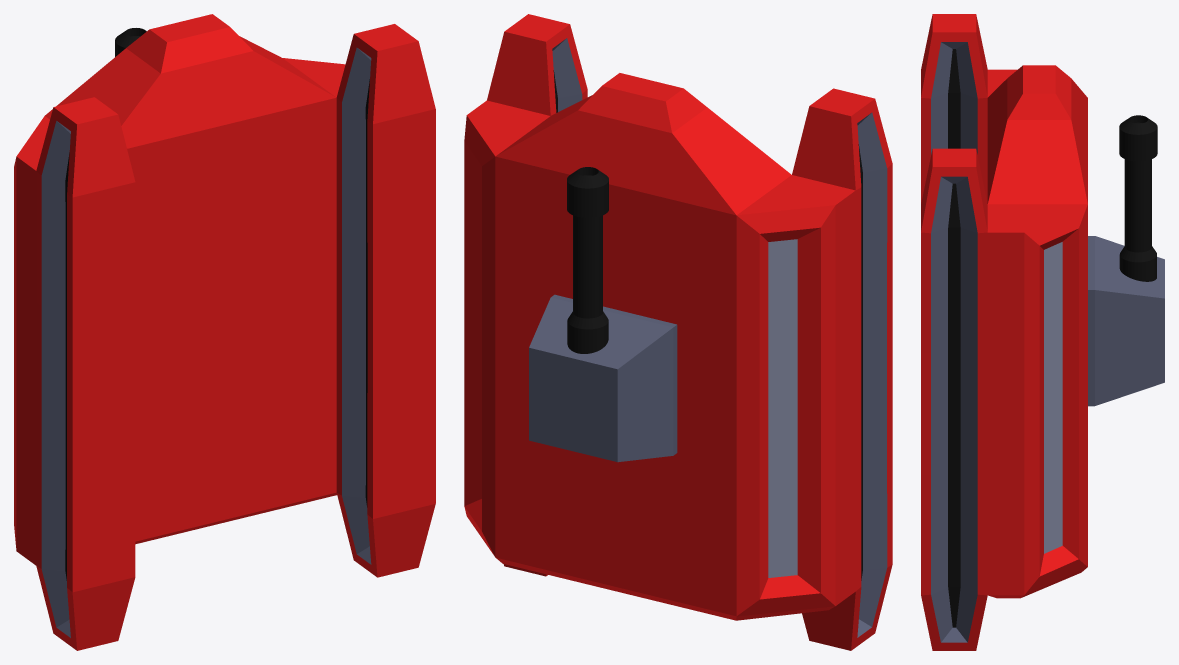
The model's file is RedTankNewTry.fbx.
The picture shows the model from 3 angles, left to right: view 1: azimuth 30°, elevation 25°; view 2: azimuth 150°, elevation 25°; view 3: azimuth 270°, elevation 25°; orthographic projection. The views are drawn at different scales.
Visible parts, largest first — view 1: TankBody; view 2: TankBody, Turret; view 3: TankBody, Turret.
Boxes of the visible parts, left/top/right/bottom form: TankBody: left=14, top=14, right=435, bottom=650; TankBody: left=464, top=14, right=892, bottom=650; Turret: left=529, top=167, right=677, bottom=462; TankBody: left=921, top=14, right=1087, bottom=650; Turret: left=1088, top=115, right=1164, bottom=406.
Bounding box in the file's own units: 578 × 818 × 366.
